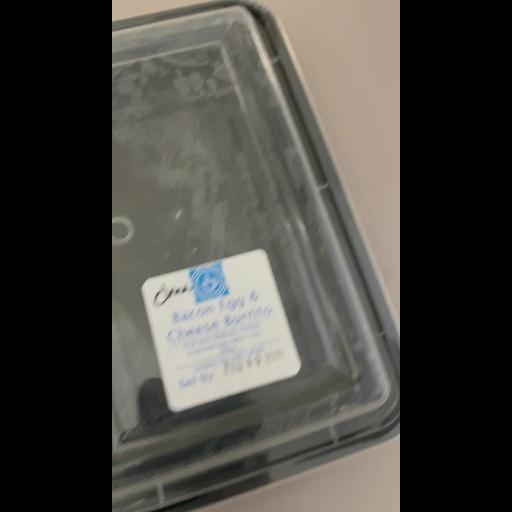rigid_plastic_container: (112, 0, 390, 512)
